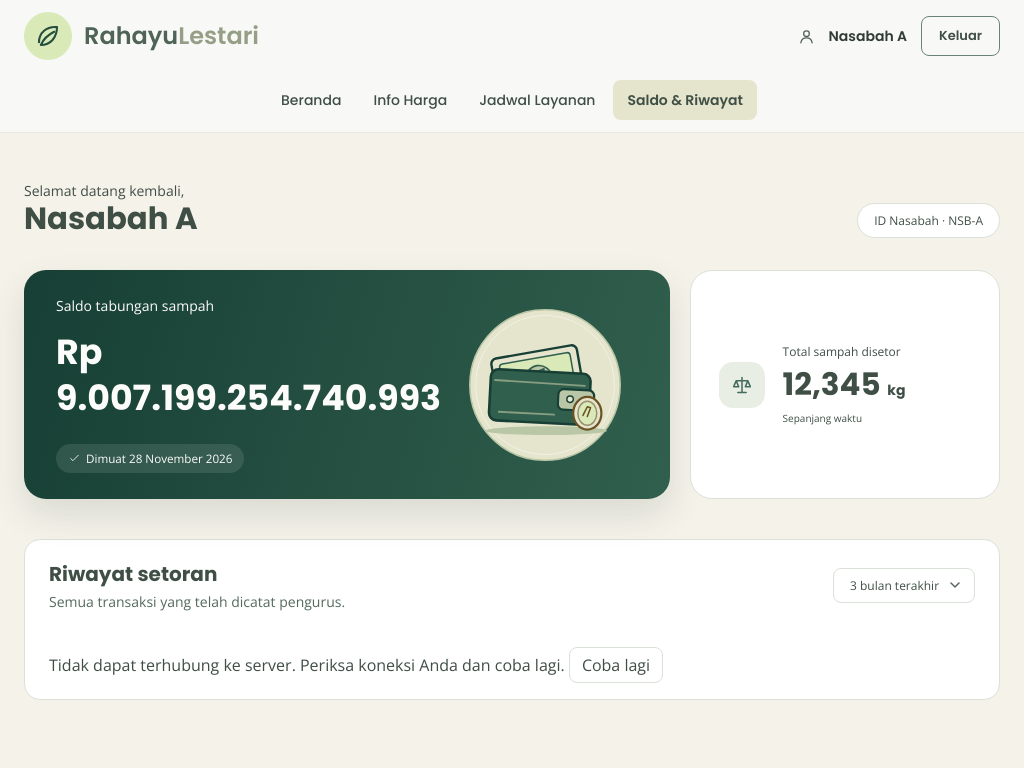
Test: saldo tetap terlihat ketika riwayat gagal dan riwayat dapat dimuat ulang
The width and height of the screenshot is (1024, 768).
Expected: the message "Tidak dapat terhubung ke server. Periksa koneksi Anda dan coba lagi. Coba lagi" is shown, [49,647,663,683]
Expected: the heading "Rp 9.007.199.254.740.993" is shown, [56,329,442,420]
Click the button "Coba lagi" at (616, 665), box [569,647,663,683]
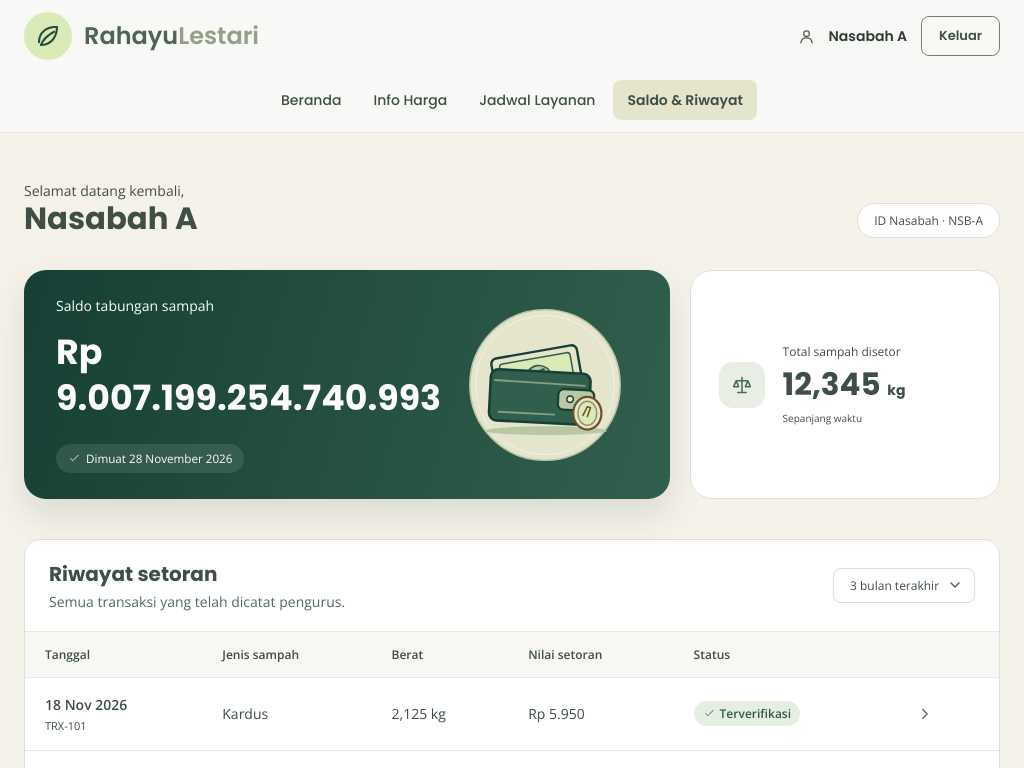
Expected: the text "TRX-101" is shown, [45,718,87,733]
